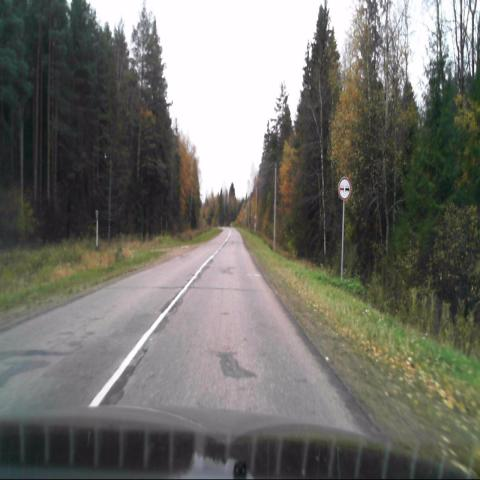3_20: (338, 176, 351, 202)
